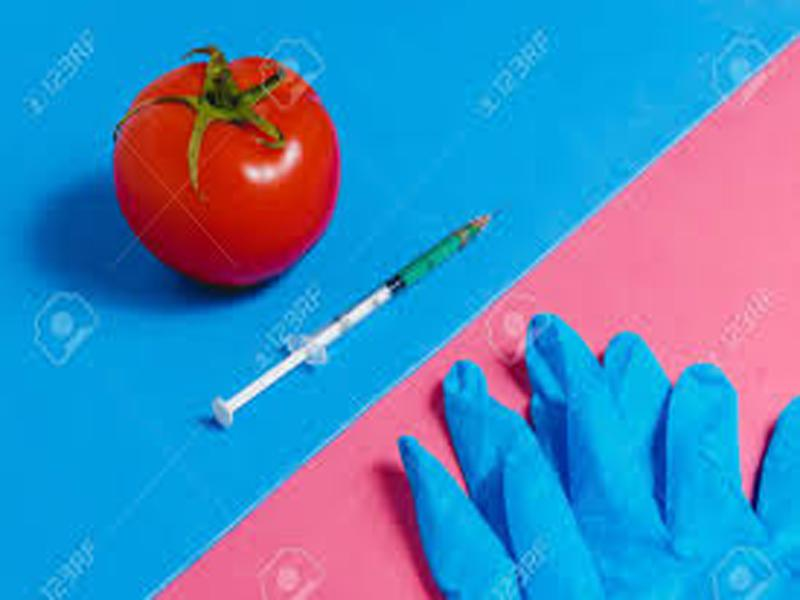Tomato: (116, 59, 340, 289)
